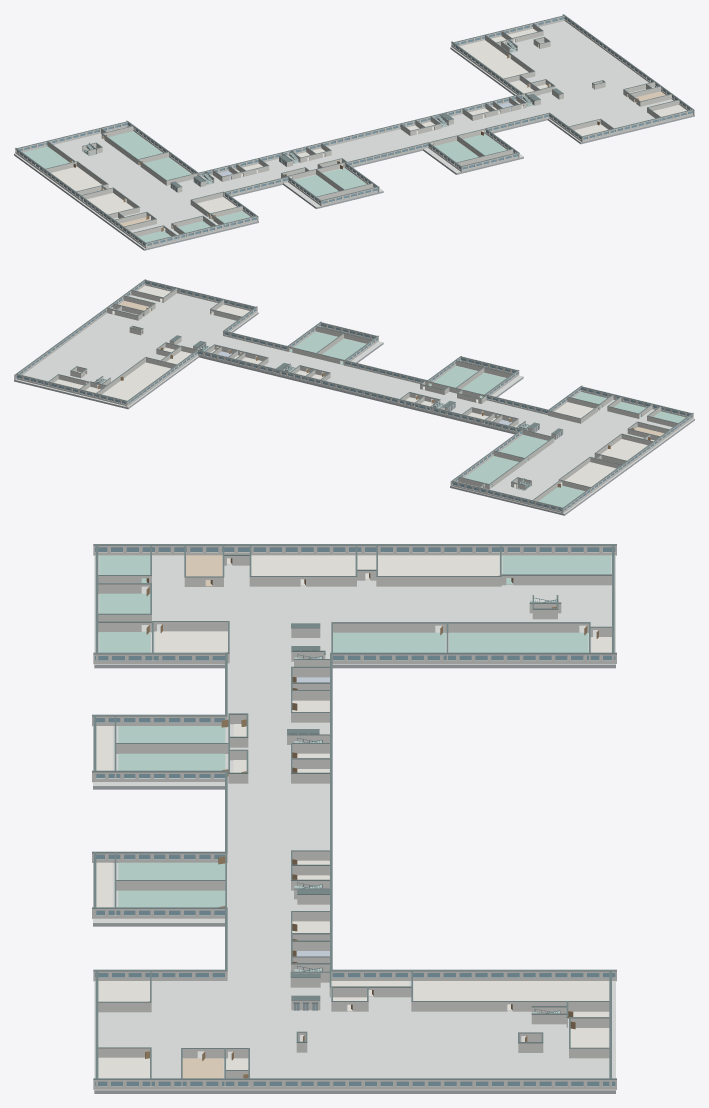
3 views of the same model, one above another, from view 1: azimuth 30°, elevation 25°; view 2: azimuth 150°, elevation 25°; view 3: azimuth 270°, elevation 25° (orthographic). The views are drawn at different scales.
Visible parts, largest first — view 1: floor, wall, cap, lecture, room, glass, slab, stair; view 2: floor, wall, cap, lecture, room, glass, slab; view 3: floor, wall, lecture, room, cap, glass, slab, food, door.
Boxes of the visible parts, x1,y1,x2,y2 form: floor: [14, 21, 692, 248]; wall: [15, 15, 694, 248]; cap: [15, 14, 694, 243]; lecture: [23, 131, 506, 242]; room: [51, 28, 686, 219]; glass: [17, 17, 694, 246]; slab: [14, 47, 694, 250]; stair: [82, 41, 532, 184]; floor: [16, 289, 694, 513]; wall: [14, 280, 693, 513]; cap: [14, 279, 693, 508]; lecture: [289, 331, 685, 507]; room: [54, 285, 654, 486]; glass: [15, 281, 691, 511]; slab: [14, 312, 694, 515]; floor: [93, 555, 615, 1090]; wall: [92, 545, 616, 1089]; lecture: [99, 555, 611, 907]; room: [97, 555, 611, 1078]; cap: [92, 544, 616, 1079]; glass: [95, 547, 615, 1086]; slab: [93, 665, 615, 1093]; food: [182, 555, 223, 1078]; door: [145, 558, 598, 1078].
Size of the model in its own units: 2078 by 30.49 by 858.
